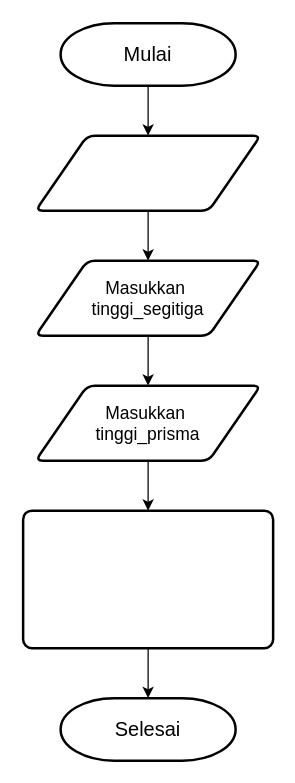
This 295x783 diagram has some shape labels left out. Each missing label, with the centre of its shape:
"Hitung volume volume = ((alas_segitiga * tinggi_segitiga) / 2) * tinggi_prisma" belongs at pixel 147 579.
"Masukkan alas_segitiga" belongs at pixel 147 172.
